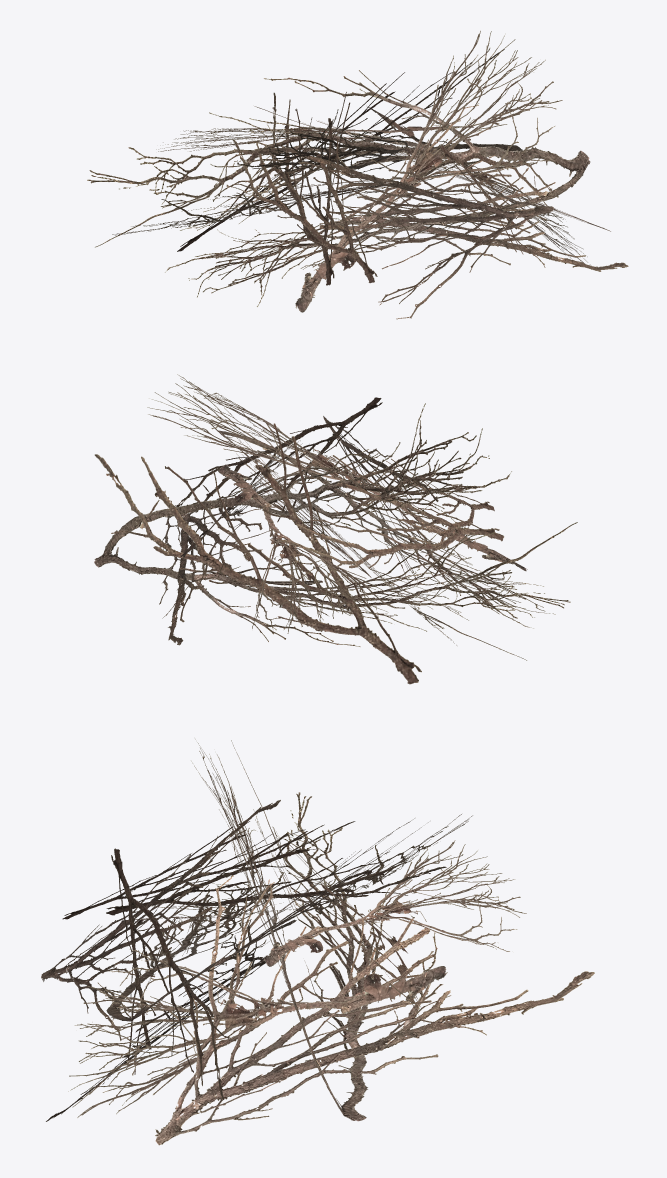
Rendered from PileOfTwigs1.fbx.
The picture shows the model from 3 angles, top to bottom: view 1: azimuth 30°, elevation 25°; view 2: azimuth 150°, elevation 25°; view 3: azimuth 270°, elevation 25°; orthographic projection. The views are drawn at different scales.
Parts seen in each view (by area): view 1: PileOfTwigs1; view 2: PileOfTwigs1; view 3: PileOfTwigs1.
Part boxes in pixels (box(x1,y1,x2,y2)): PileOfTwigs1: box(87, 30, 628, 319); PileOfTwigs1: box(94, 374, 577, 684); PileOfTwigs1: box(41, 739, 594, 1145).
Bounding box in the file's own units: 254 × 107 × 206.
